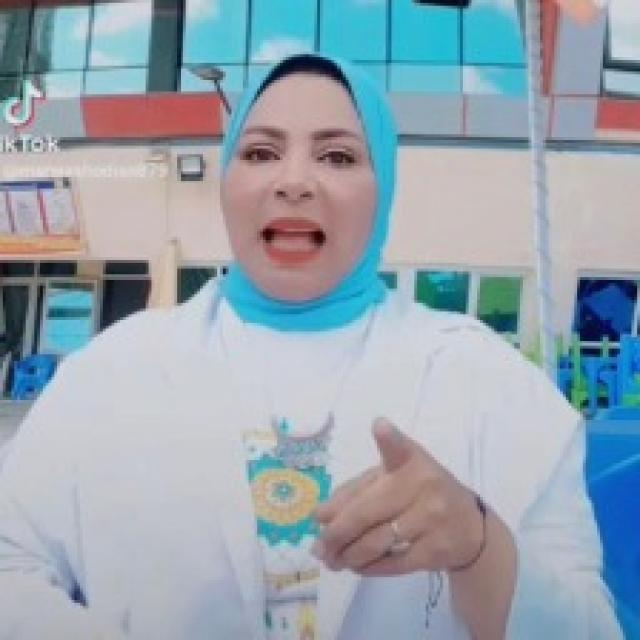you: (308, 411, 472, 584)
